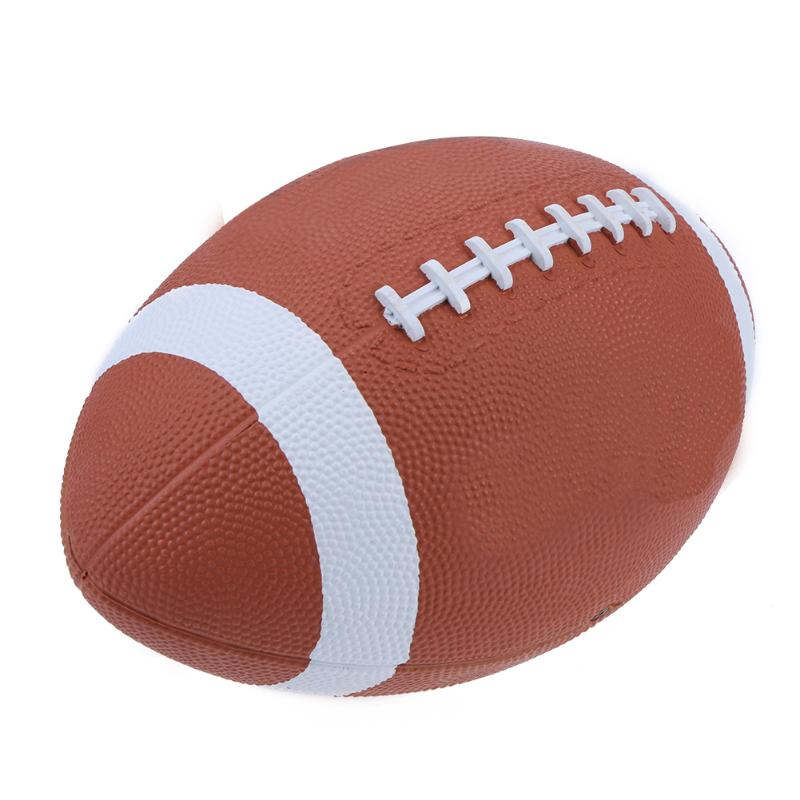Nonrec_Plastic: (32, 80, 774, 720)
